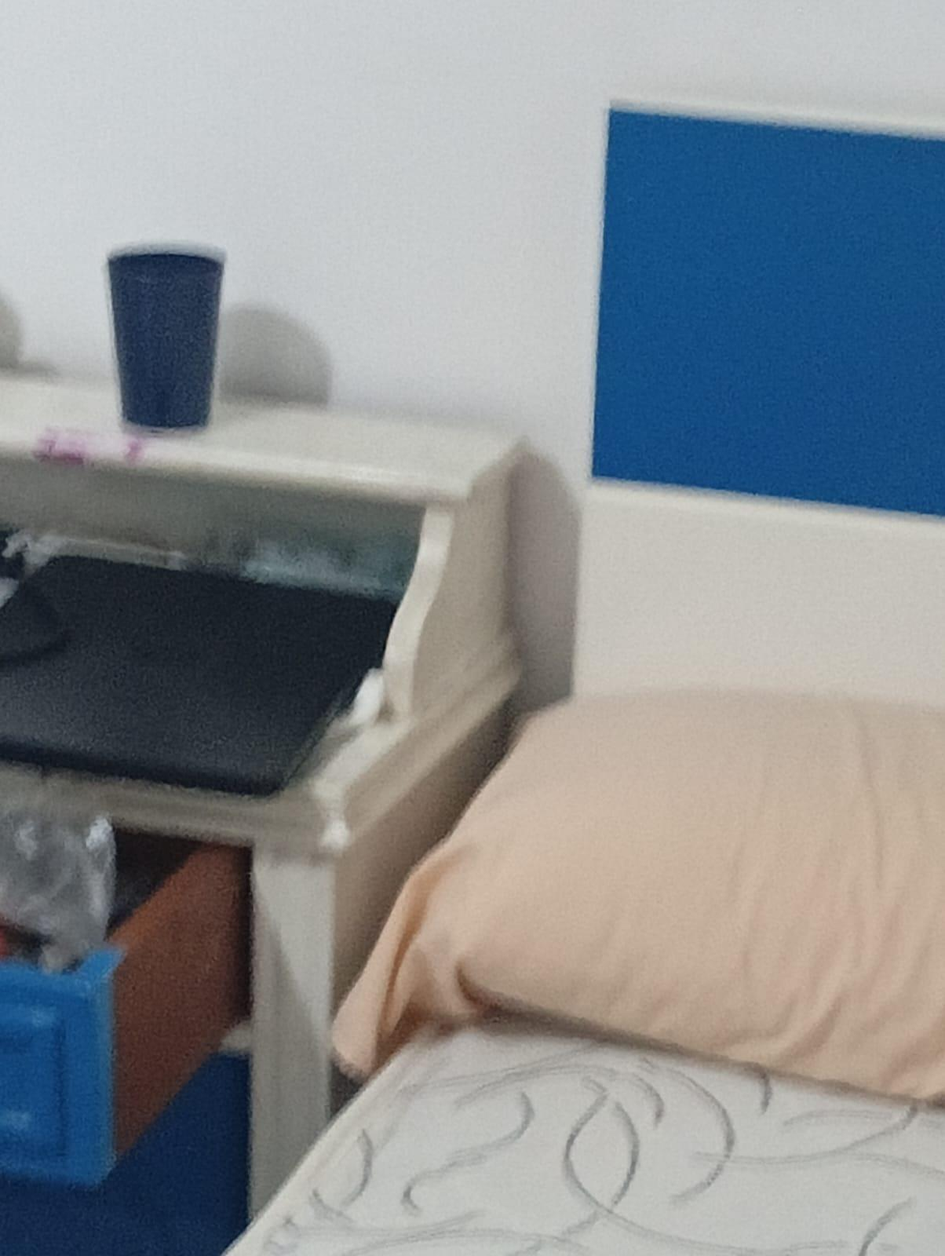cup: (108, 248, 224, 431)
